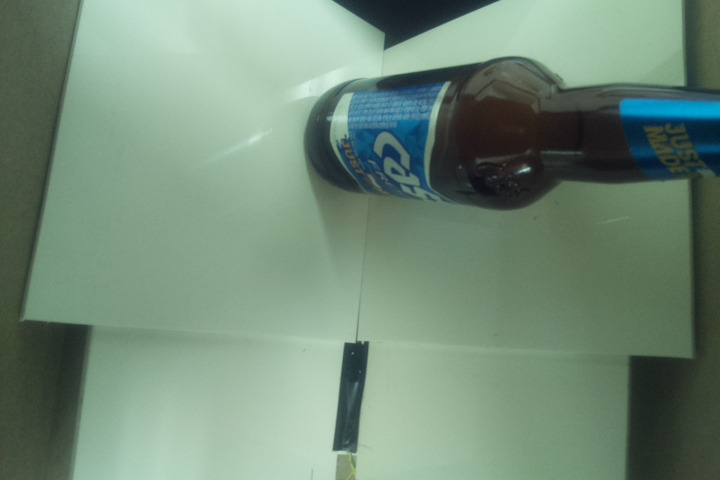makju: (304, 53, 720, 211)
